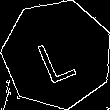L_NW: (33, 25, 82, 84)
